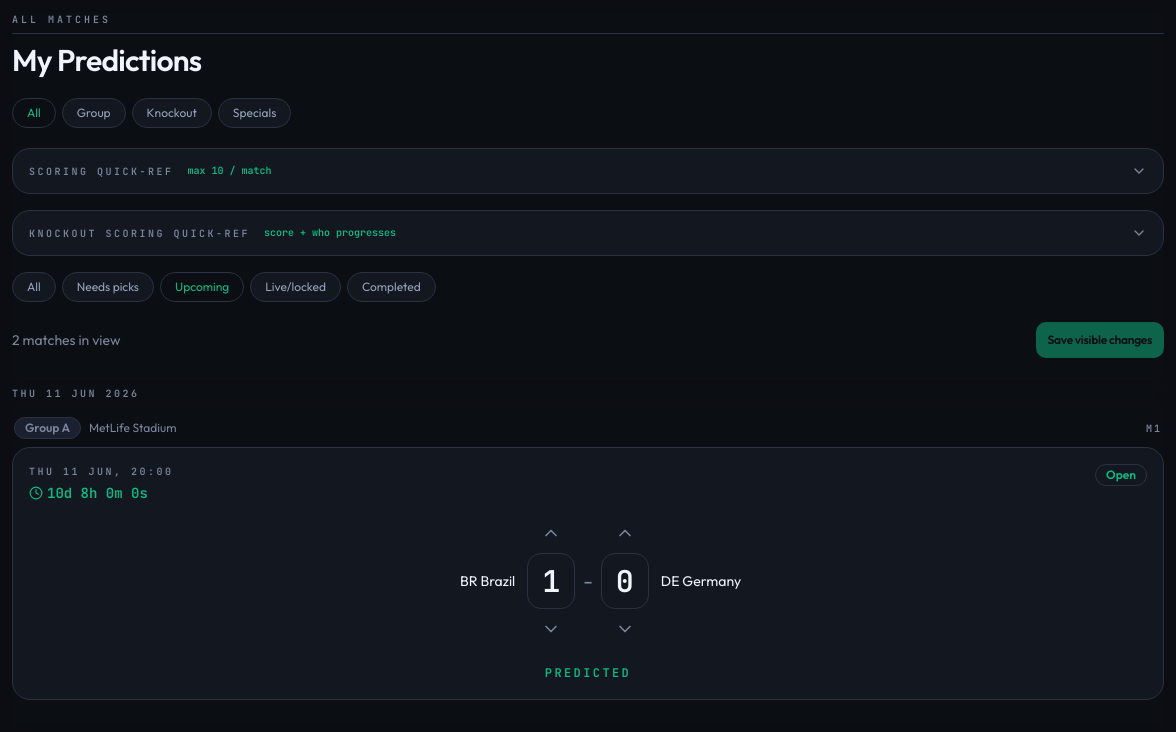
Scenario: PredictionsPage › enables save visible changes after editing an open match
Replace the text in the number field named "Home score for match 1" with "3" at [551, 581], box [527,553,575,609]
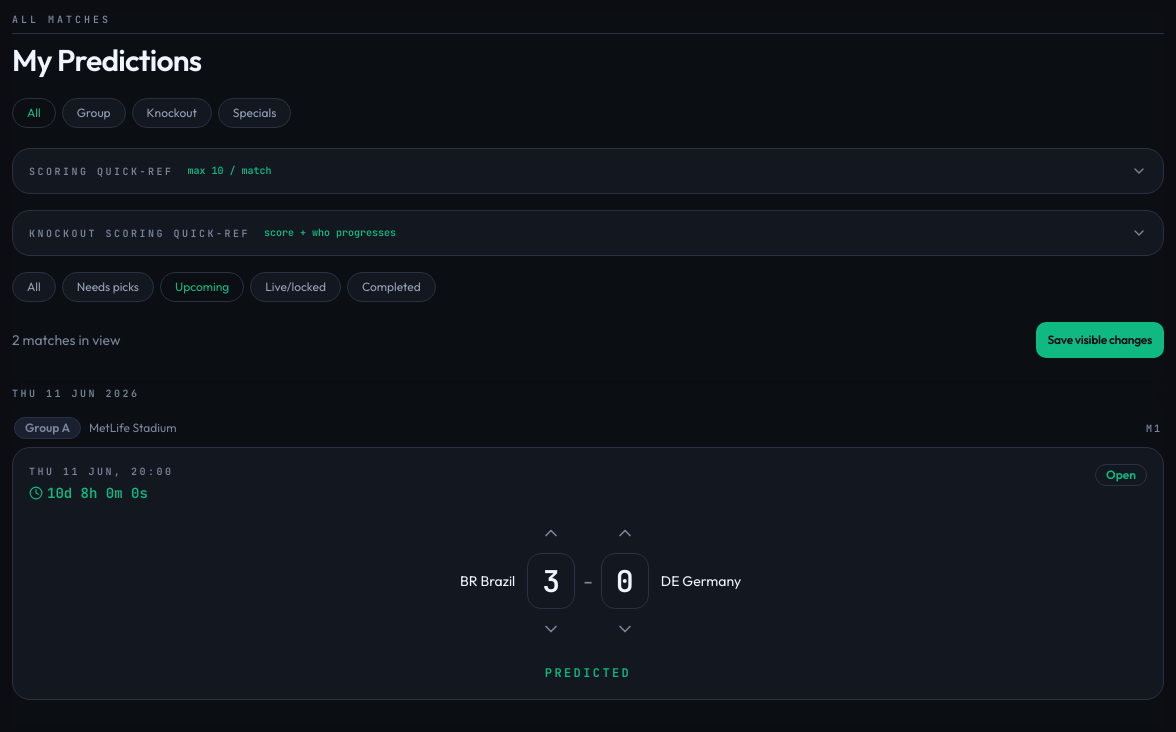
Check: the button "Save visible changes" is enabled, box [1036,322,1164,358]
